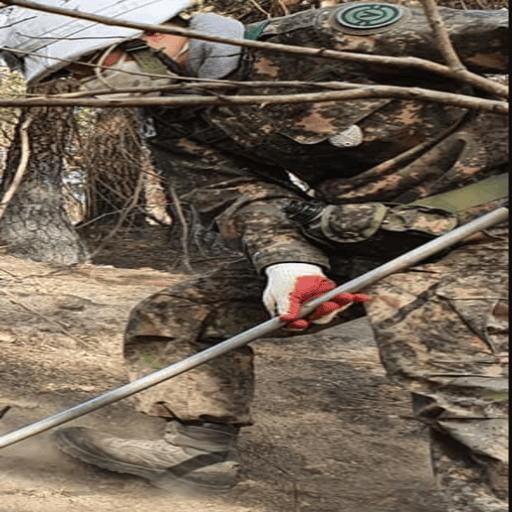korea army: (66, 2, 498, 486)
